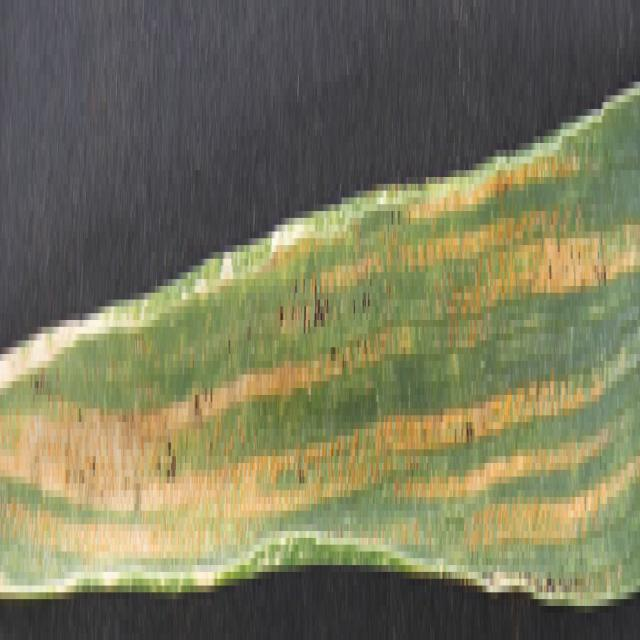leaf rust: (1, 197, 636, 579)
